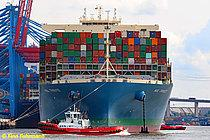Ship: (34, 8, 179, 137)
